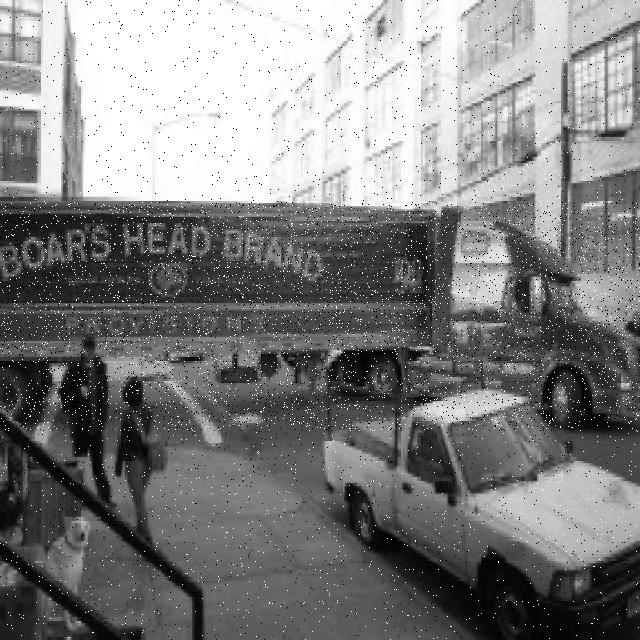Box Truck: (0, 202, 640, 431)
